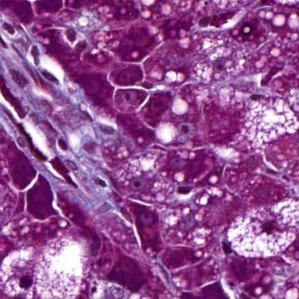ballooning: (0, 229, 96, 298), (227, 195, 298, 260)
